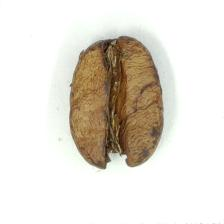NG: (73, 37, 163, 172)
